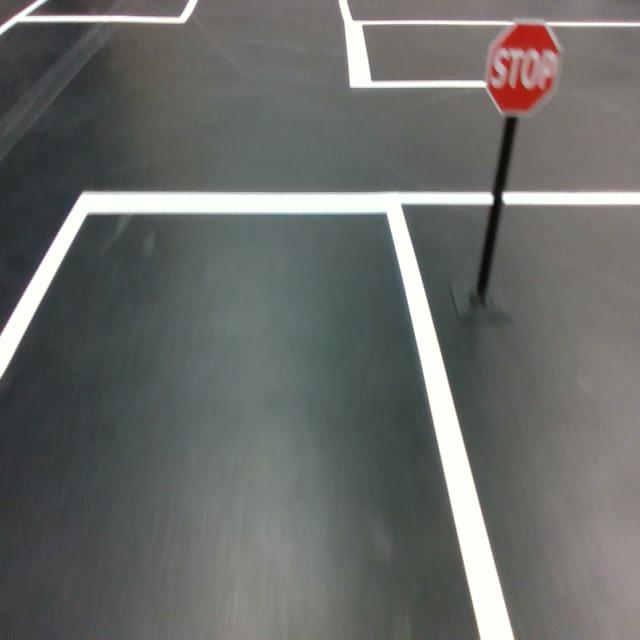stop-sign: (484, 18, 565, 120)
